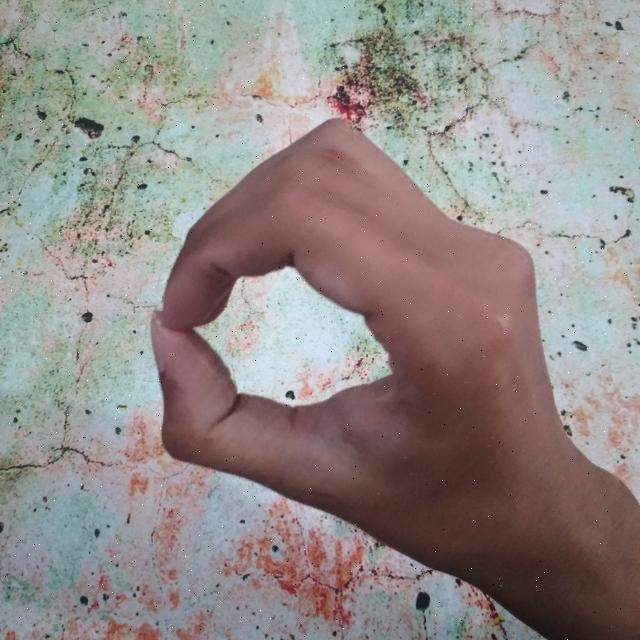O: (146, 112, 640, 640)
